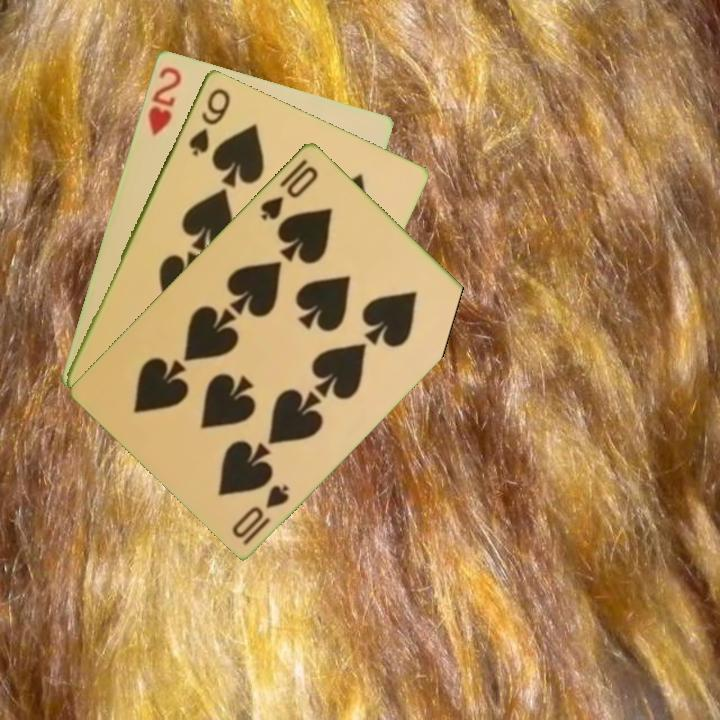10s: (256, 154, 322, 223), (228, 480, 292, 548)
2h: (144, 62, 184, 139)
9s: (185, 84, 233, 159)
